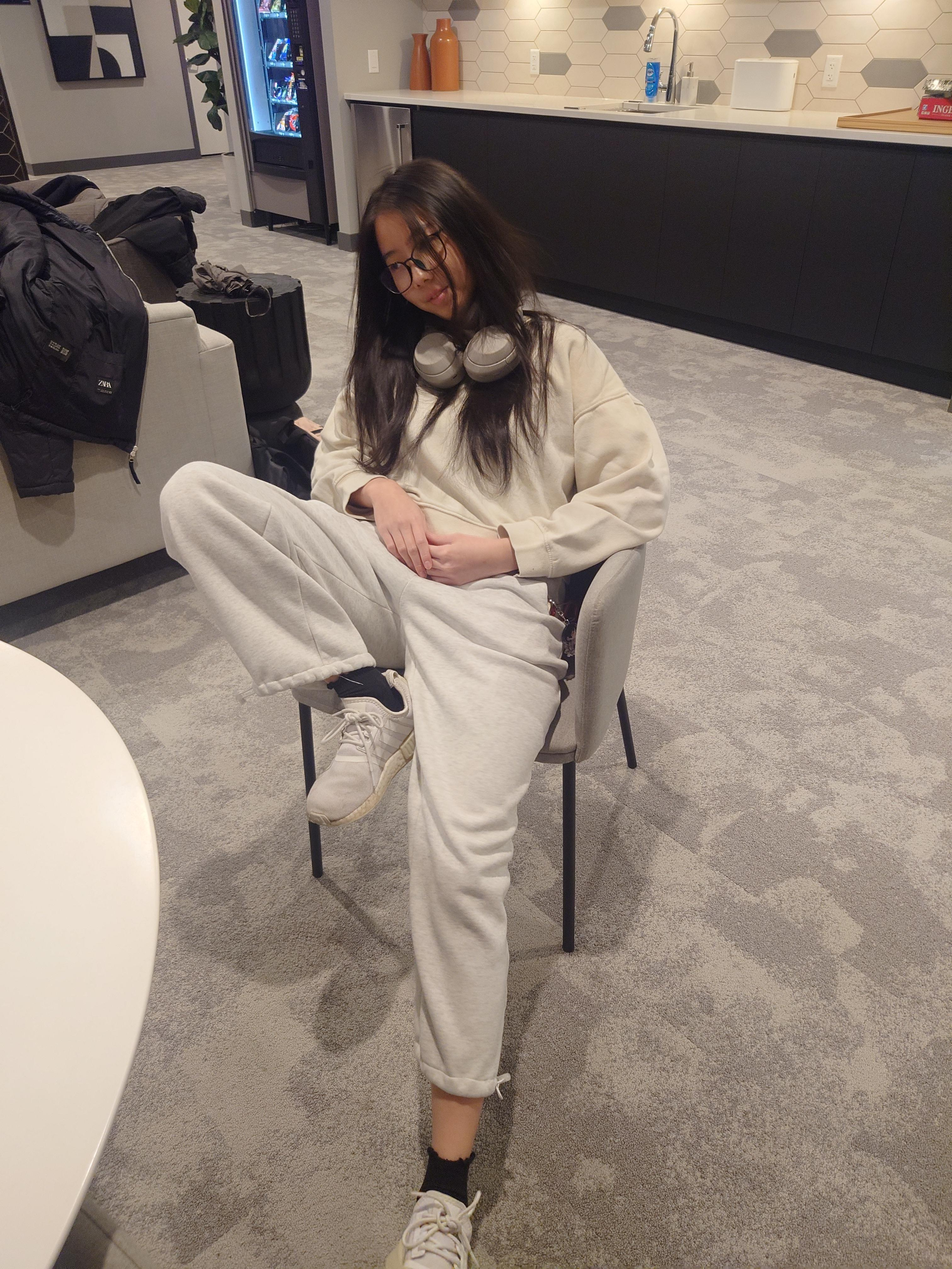BadPosture: (156, 158, 669, 1269)
